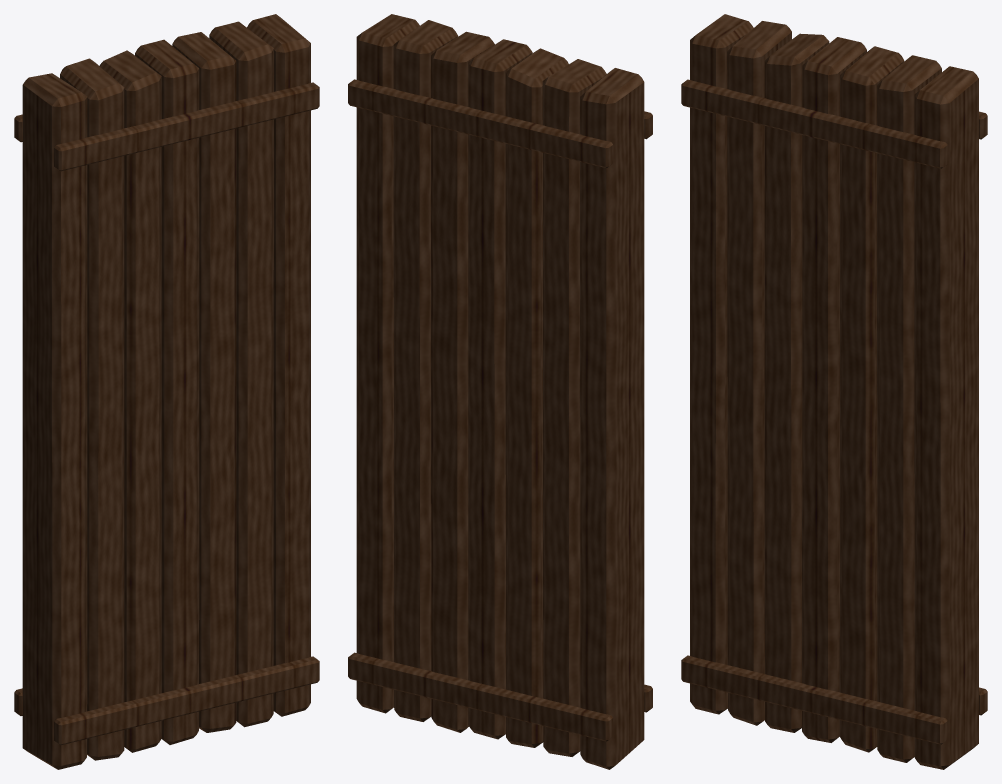
Rendered from wall_wood_b.glb.
3 views of the same model, side by side, from view 1: azimuth 30°, elevation 25°; view 2: azimuth 150°, elevation 25°; view 3: azimuth 330°, elevation 25° (orthographic).
Parts seen in each view (by area): view 1: wall_wood_b; view 2: wall_wood_b; view 3: wall_wood_b.
Part boxes in pixels (x1,y1,x2,y2): wall_wood_b: (14, 14, 319, 769); wall_wood_b: (348, 14, 652, 769); wall_wood_b: (681, 14, 987, 769).
Bounding box in the file's own units: 1 × 2.49 × 0.309.
Materials: 1 (1 with a texture image).
